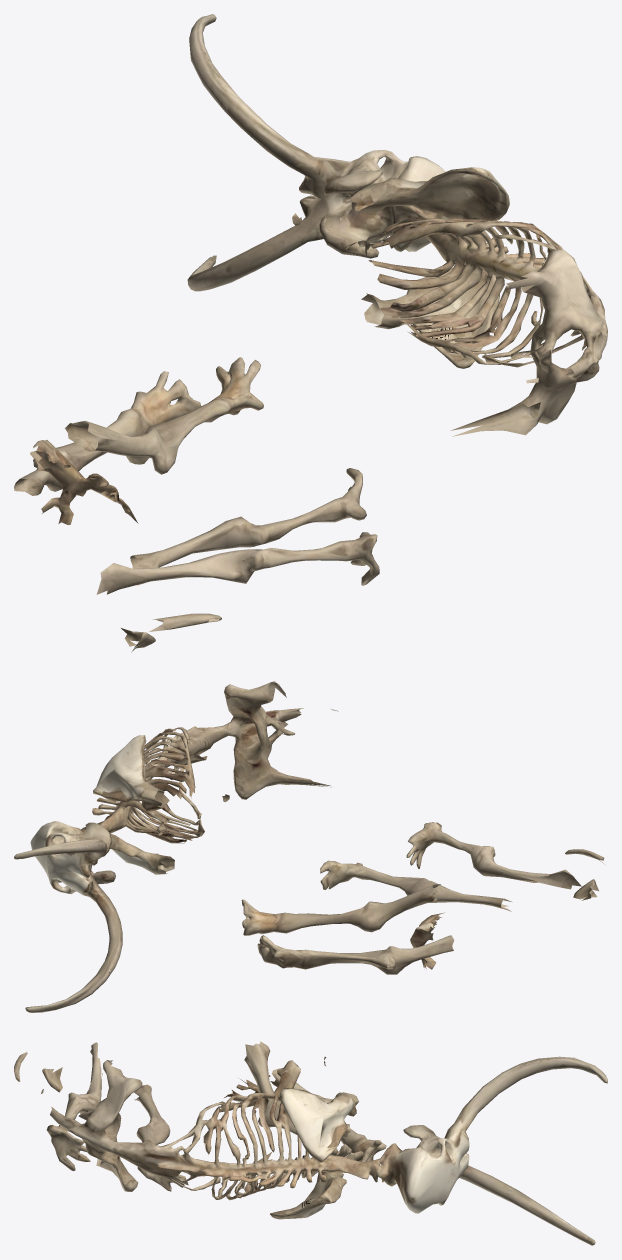
The model's file is mammoth_fossil.glb.
3 renders of one model, top to bottom at view 1: azimuth 30°, elevation 25°; view 2: azimuth 150°, elevation 25°; view 3: azimuth 270°, elevation 25°, orthographic. The views are drawn at different scales.
Visible parts, largest first — view 1: SM_animal_skeleton_01.001; view 2: SM_animal_skeleton_01.001; view 3: SM_animal_skeleton_01.001.
Boxes of the visible parts, <box> form: SM_animal_skeleton_01.001: <box>14,14,607,652</box>; SM_animal_skeleton_01.001: <box>14,681,606,1012</box>; SM_animal_skeleton_01.001: <box>14,1041,607,1245</box>.
Bounding box in the file's own units: 5.01 × 2.07 × 6.11.
Materials: 1 (1 with a texture image).
